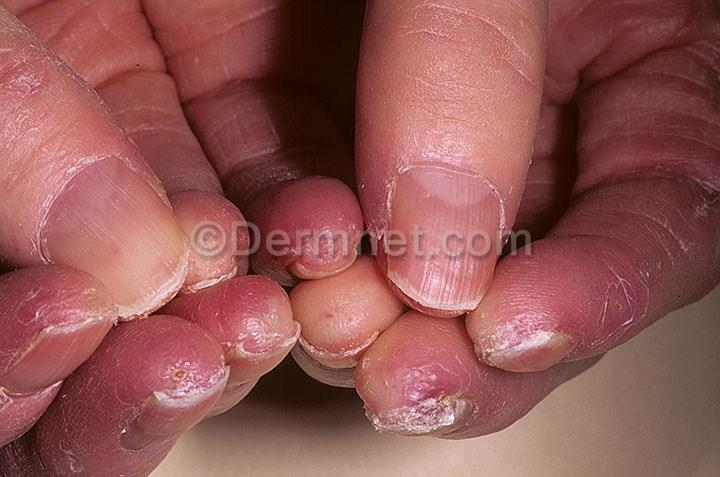Eczema: (131, 331, 241, 392), (572, 275, 667, 340), (362, 361, 476, 402), (0, 273, 88, 323), (214, 273, 299, 323), (2, 39, 65, 104), (238, 158, 324, 198), (31, 430, 95, 477), (686, 162, 720, 222)
